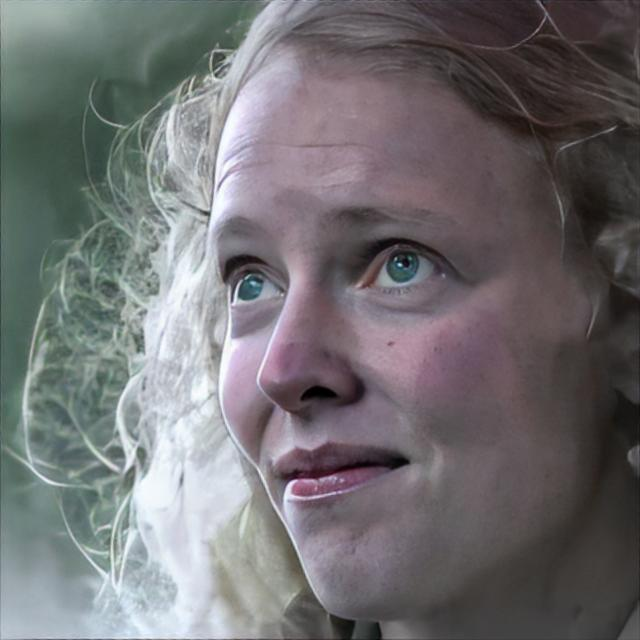fear: (211, 46, 606, 626)
